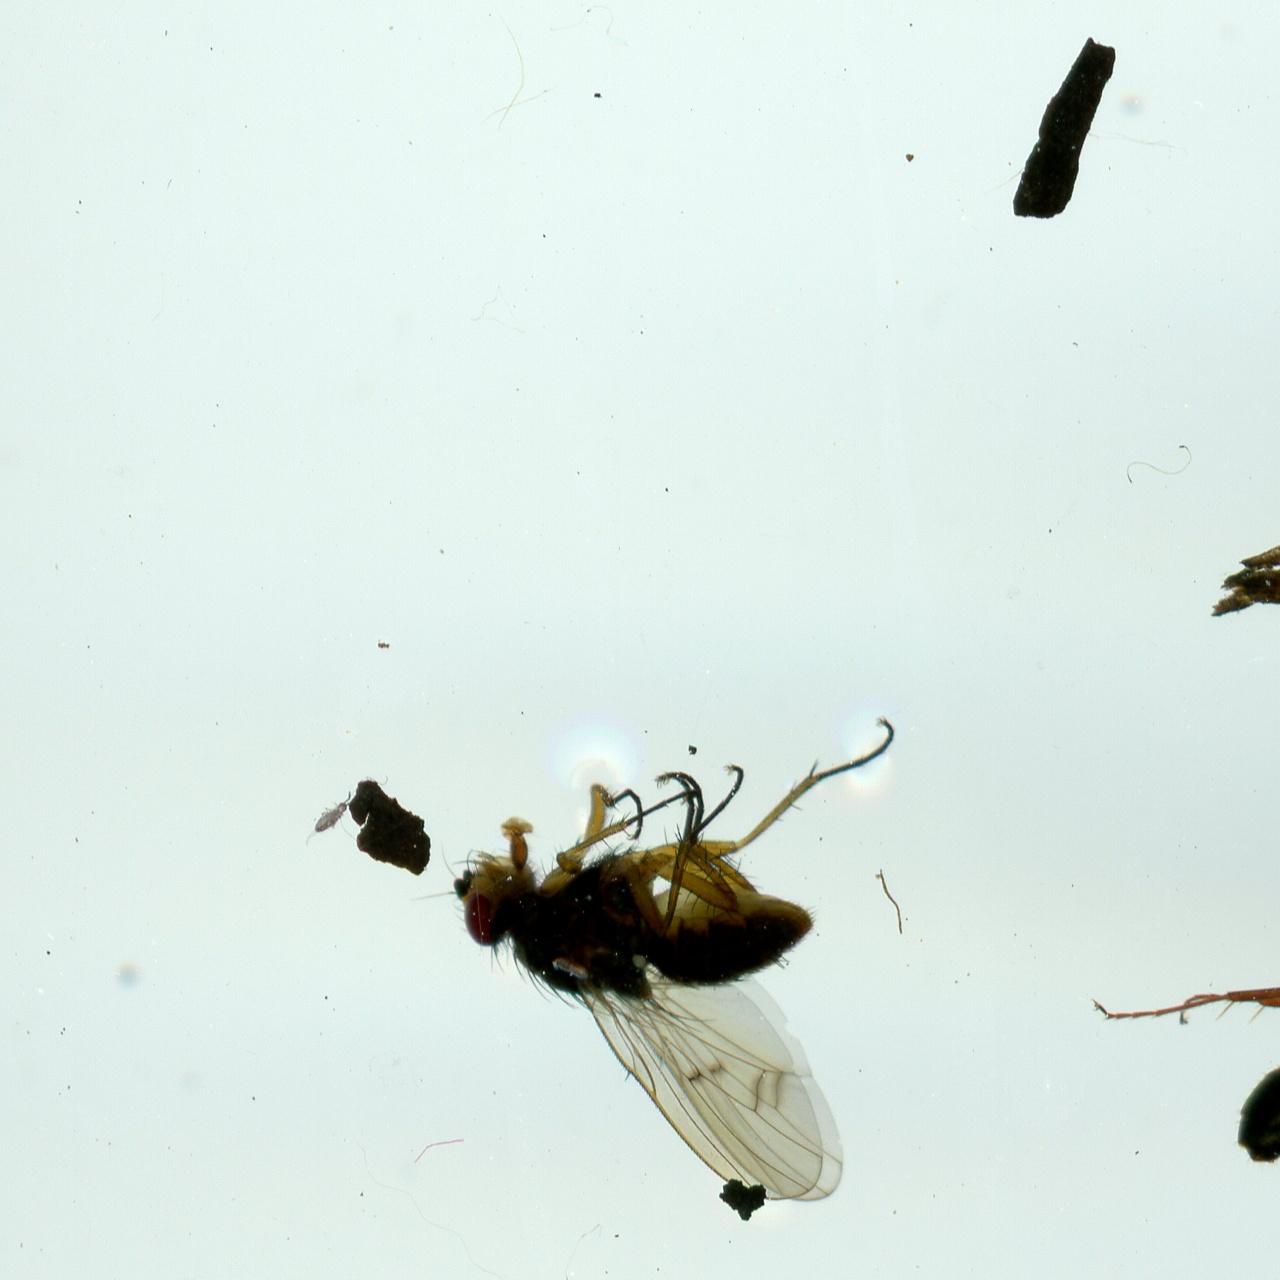arthropod: (408, 709, 928, 1214), (1085, 870, 1280, 1280), (293, 776, 367, 863)
